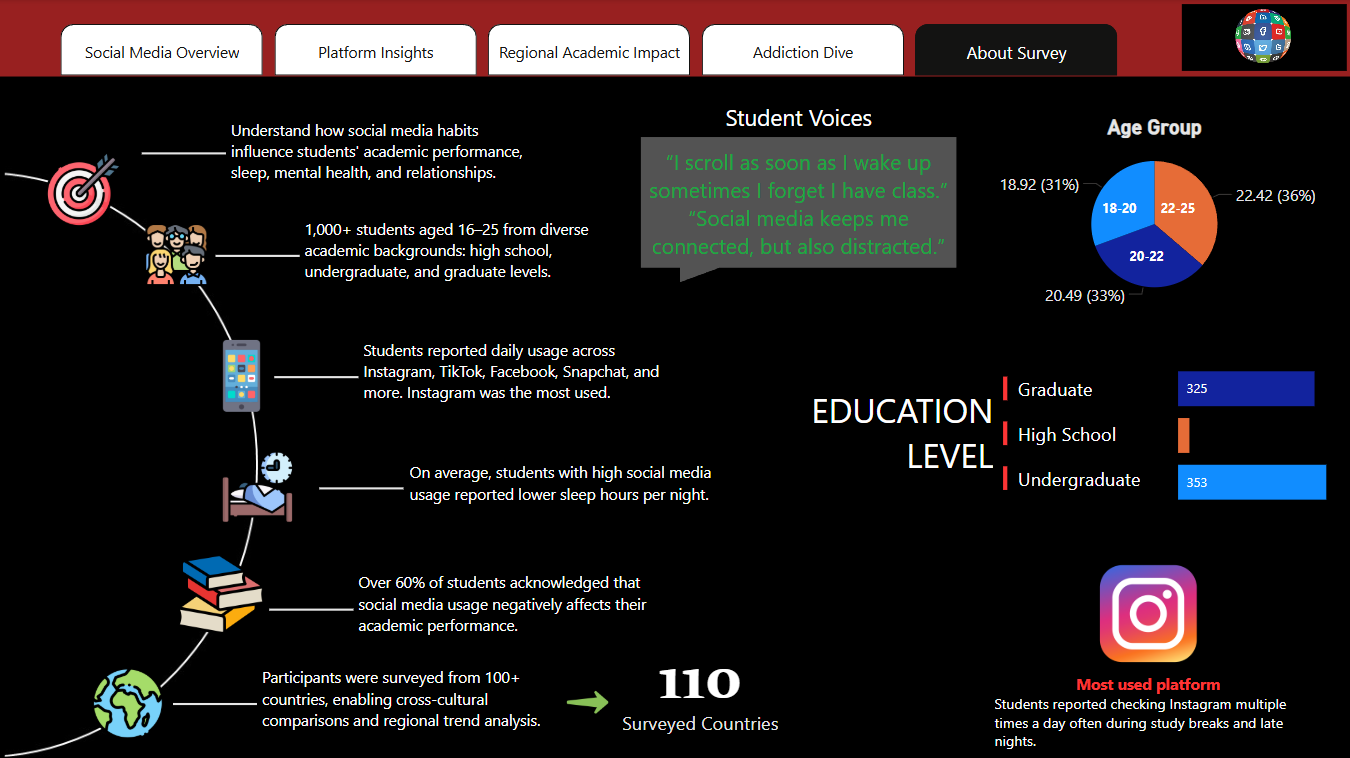

The page's visual inventory and layout, read from the dashboard file:
{"tool":"powerbi","page":{"name":"About Survey","canvas":[1280,720],"ordinal":4},"visuals":[{"type":"image","box":[0,75.1,1143.3,645.4],"z":0},{"type":"shape","box":[0,0,1280.3,73.3],"z":1000},{"type":"image","box":[1114.4,0,165.6,73.3],"z":2000},{"type":"pageNavigator","box":[58.9,23.9,1000.1,49.4],"z":3000},{"type":"image","box":[39.8,138.5,82.8,82.8],"z":3001},{"type":"image","box":[133.8,202.2,71.7,79.6],"z":3002},{"type":"image","box":[191.1,316.9,78,79.6],"z":3003},{"type":"image","box":[205.4,422,79.6,79.6],"z":3004},{"type":"image","box":[164,511.2,94,101.9],"z":3005},{"type":"image","box":[81.2,625.8,82.8,79.6],"z":3006},{"type":"textbox","box":[245.2,625.8,299.4,94],"z":3007},{"type":"textbox","box":[215.4,108.7,299.4,79.6],"z":3008},{"type":"textbox","box":[285,202.2,299.4,90.8],"z":3009},{"type":"textbox","box":[340.8,316.9,299.4,90.8],"z":3010},{"type":"textbox","box":[384.2,432,299.4,79.6],"z":3011},{"type":"textbox","box":[336,536.7,299.4,87.6],"z":3012},{"type":"shape","box":[135.4,49.4,79.6,192.7],"z":3013},{"type":"shape","box":[205.4,146.5,79.6,192.7],"z":3014},{"type":"shape","box":[261.2,261.2,79.6,192.7],"z":3015},{"type":"shape","box":[304.2,366.3,79.6,192.7],"z":3016},{"type":"shape","box":[256.4,480.9,79.6,192.7],"z":3017},{"type":"shape","box":[165.6,613.1,79.6,106.7],"z":3018},{"type":"pieChart","title":"Age Group","fields":{"Category":["Students Social Media Addiction.Age (bins)"],"Y":["Avg(Students Social Media Addiction.Age)"]},"box":[906.1,109.9,374.2,184.7],"z":3019},{"type":"textbox","box":[1039.2,183.1,54,40.8],"z":3020},{"type":"textbox","box":[1065.3,227.7,57.3,41.4],"z":3021},{"type":"textbox","box":[1094,183.1,62.1,41.4],"z":3022},{"type":"multiRowCard","fields":{"Values":["Students Social Media Addiction.Academic_Level"]},"box":[945.9,351.9,165.6,140.1],"z":3023},{"type":"barChart","fields":{"Category":["Students Social Media Addiction.Academic_Level"],"Y":["CountNonNull(Students Social Media Addiction.Student_ID)"],"Series":["Students Social Media Addiction.Academic_Level"]},"box":[1111.5,339.2,168.8,141.7],"z":3024},{"type":"card","fields":{"Values":["Count(Students Social Media Addiction.Country)"]},"box":[571.6,576.9,184.4,139.6],"z":3025},{"type":"shape","title":"Student Voices","box":[607.2,97.5,299,171.2],"z":3026},{"type":"image","box":[533.4,640.1,48.7,48.7],"z":3027},{"type":"image","box":[937.8,525.5,300.3,110.6],"z":3028},{"type":"textbox","box":[937.8,632.2,300.3,88.2],"z":3029},{"type":"textbox","box":[732.3,362.2,213.4,101.4],"z":3030}]}

Visuals, with their boxes in screenshot pixels (x1, y1, x2, y2), scaled from the page's 1280x720 canvas onto the 1350x758 screenshot:
image: crop(0, 79, 1206, 757)
shape: crop(0, 0, 1349, 77)
image: crop(1175, 0, 1349, 77)
pageNavigator: crop(62, 25, 1117, 77)
image: crop(42, 146, 129, 233)
image: crop(141, 213, 217, 297)
image: crop(202, 334, 284, 417)
image: crop(217, 444, 301, 528)
image: crop(173, 538, 272, 645)
image: crop(86, 659, 173, 743)
textbox: crop(259, 659, 574, 757)
textbox: crop(227, 114, 543, 198)
textbox: crop(301, 213, 616, 308)
textbox: crop(359, 334, 675, 429)
textbox: crop(405, 455, 721, 539)
textbox: crop(354, 565, 670, 657)
shape: crop(143, 52, 227, 255)
shape: crop(217, 154, 301, 357)
shape: crop(275, 275, 359, 478)
shape: crop(321, 386, 405, 589)
shape: crop(270, 506, 354, 709)
shape: crop(175, 645, 259, 757)
"Age Group" pieChart: crop(956, 116, 1349, 310)
textbox: crop(1096, 193, 1153, 236)
textbox: crop(1124, 240, 1184, 283)
textbox: crop(1154, 193, 1219, 236)
multiRowCard - Students Social Media Addiction.Academic_Level: crop(998, 370, 1172, 518)
barChart - Students Social Media Addiction.Academic_Level x CountNonNull(Students Social Media Addiction.Student_ID): crop(1172, 357, 1349, 506)
card - Count(Students Social Media Addiction.Country): crop(603, 607, 797, 754)
"Student Voices" shape: crop(640, 103, 956, 283)
image: crop(563, 674, 614, 725)
image: crop(989, 553, 1306, 670)
textbox: crop(989, 666, 1306, 757)
textbox: crop(772, 381, 997, 488)
